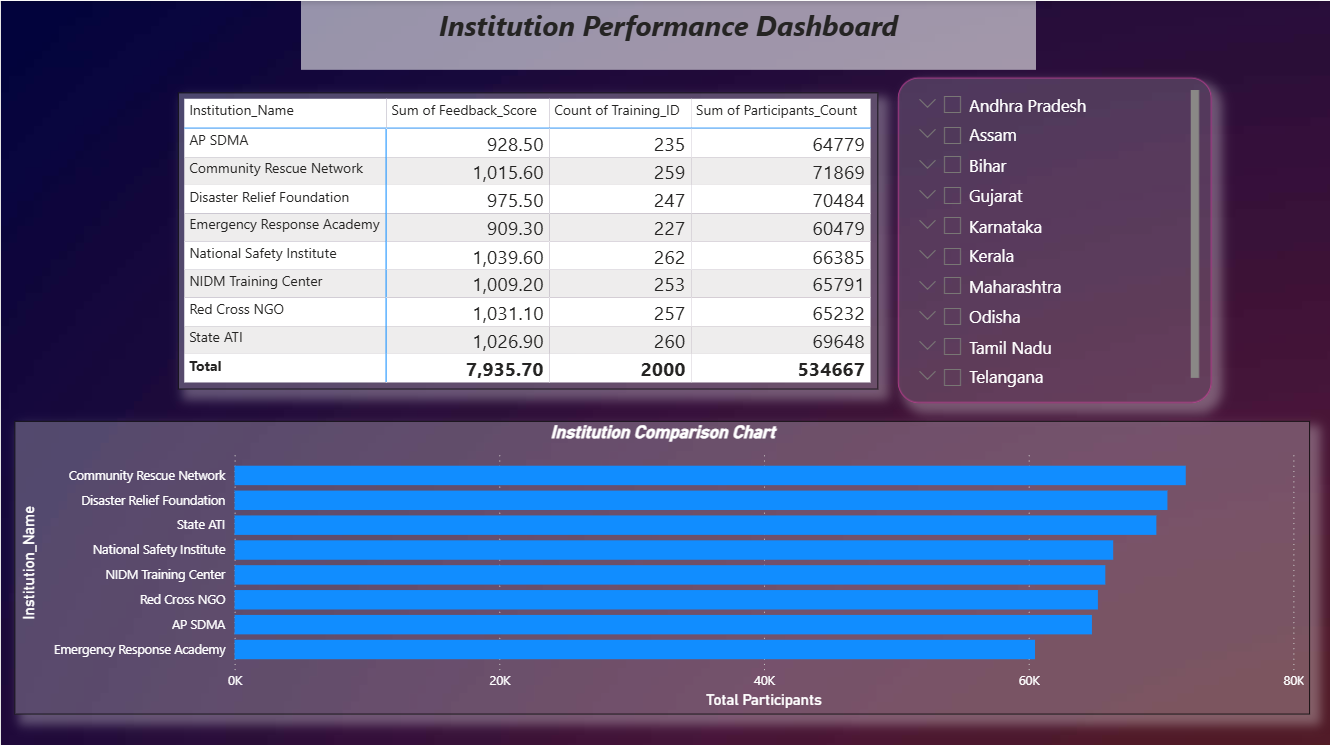

The dashboard page shown, as its layout file describes it:
{"tool":"powerbi","page":{"name":"Institution Performance","canvas":[1280,720],"ordinal":3},"visuals":[{"type":"textbox","box":[287.9,0,704.4,65.8],"z":0},{"type":"pivotTable","title":"Institution Performance Table","fields":{"Rows":["Training_Data.Institution_Name"],"Values":["Sum(Feedback_Data.Feedback_Score)","Training_Data.Count of Training_ID","Sum(Training_Data.Participants_Count)"]},"box":[169.7,87.7,671.6,284.7],"z":1000},{"type":"clusteredBarChart","title":"Institution Comparison Chart","fields":{"Category":["Training_Data.Institution_Name"],"Y":["Training_Data.Total Participants"]},"box":[13.1,402.4,1242.1,281.4],"z":2000},{"type":"slicer","fields":{"Values":["Training_Data.State","Training_Data.District","Training_Data.Disaster_Theme","Training_Data.Institution_Type","Training_Data.Date","Training_Data.Venue_Type"]},"box":[860,73.3,300.6,312.1],"z":4000}]}

Visuals, with their boxes in screenshot pixels (x1, y1, x2, y2), scaled from the page's 1280x720 canvas onto the 1330x745 screenshot:
textbox: x1=299 y1=0 x2=1031 y2=68
"Institution Performance Table" pivotTable: x1=176 y1=91 x2=874 y2=385
"Institution Comparison Chart" clusteredBarChart: x1=14 y1=416 x2=1304 y2=708
slicer - Training_Data.State x Training_Data.District: x1=894 y1=76 x2=1206 y2=399
